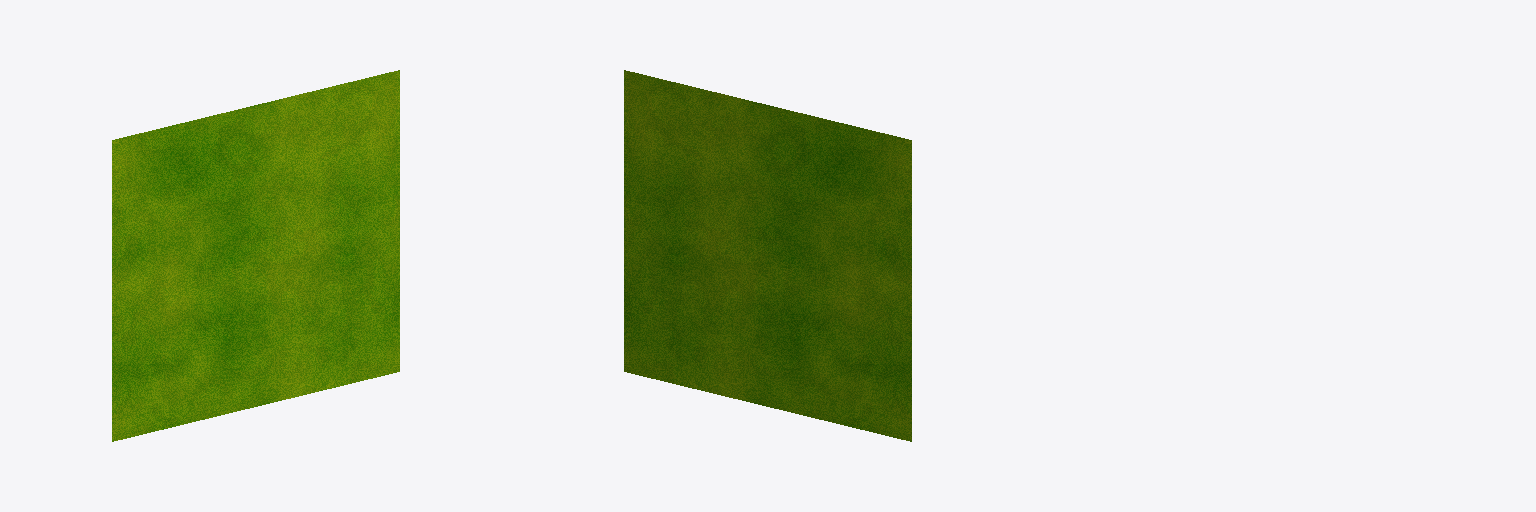
3 views of the same model, side by side, from view 1: azimuth 30°, elevation 25°; view 2: azimuth 150°, elevation 25°; view 3: azimuth 270°, elevation 25° (orthographic).
Parts seen in each view (by area): view 1: Plane; view 2: Plane; view 3: none.
Boxes of the visible parts, box(x1,y1,x2,y2) form: Plane: box(112, 70, 399, 441); Plane: box(624, 70, 911, 441).
Size of the model in its own units: 1 by 1 by 0.
Materials: 1 (1 with a texture image).